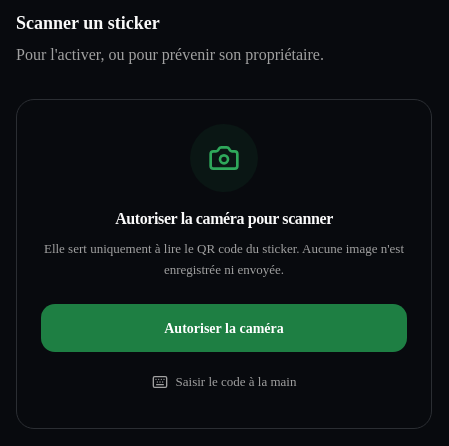
Test: ScanPage › opens the code entry without touching the camera
Click the button "Saisir le code à la main" at (224, 382), box [41,360,407,404]
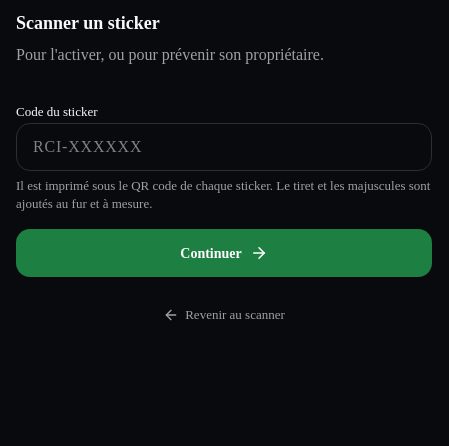
expect the field labelled "Code du sticker" is shown: met, box [16,123,432,171]
